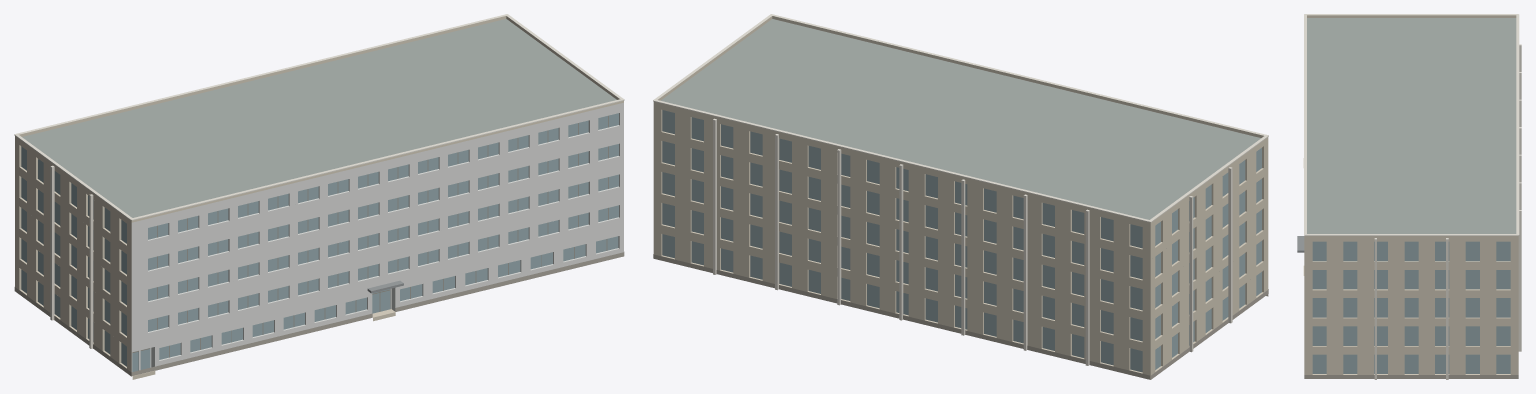
3 renders of one model, left to right at view 1: azimuth 30°, elevation 25°; view 2: azimuth 150°, elevation 25°; view 3: azimuth 270°, elevation 25°, orthographic. The views are drawn at different scales.
Parts seen in each view (by area): view 1: b470140010__wall2, b470140010__roof, b470140010__glass, b470140010__wall, b470140010__trim, b470140010__parapet, b470140010__base, b470140010__frame; view 2: b470140010__wall, b470140010__roof, b470140010__glass, b470140010__trim, b470140010__parapet, b470140010__base; view 3: b470140010__roof, b470140010__wall, b470140010__glass, b470140010__trim, b470140010__parapet, b470140010__base.
Boxes of the visible parts, bbox=[...] form: b470140010__wall2: bbox=[131, 102, 623, 371]; b470140010__roof: bbox=[22, 19, 616, 217]; b470140010__glass: bbox=[21, 113, 618, 371]; b470140010__wall: bbox=[15, 137, 131, 375]; b470140010__trim: bbox=[14, 14, 624, 348]; b470140010__parapet: bbox=[15, 16, 623, 222]; b470140010__base: bbox=[14, 252, 624, 376]; b470140010__frame: bbox=[132, 115, 608, 357]; b470140010__wall: bbox=[653, 103, 1268, 379]; b470140010__roof: bbox=[661, 19, 1260, 379]; b470140010__glass: bbox=[662, 110, 1261, 372]; b470140010__trim: bbox=[653, 14, 1268, 365]; b470140010__parapet: bbox=[653, 16, 1268, 224]; b470140010__base: bbox=[653, 254, 1268, 379]; b470140010__roof: bbox=[1307, 18, 1516, 233]; b470140010__wall: bbox=[1304, 237, 1518, 374]; b470140010__glass: bbox=[1312, 241, 1510, 373]; b470140010__trim: bbox=[1304, 14, 1521, 379]; b470140010__parapet: bbox=[1304, 15, 1518, 237]; b470140010__base: bbox=[1304, 375, 1518, 378].
Size of the model in its own units: 61.02 by 18.75 by 25.9.
